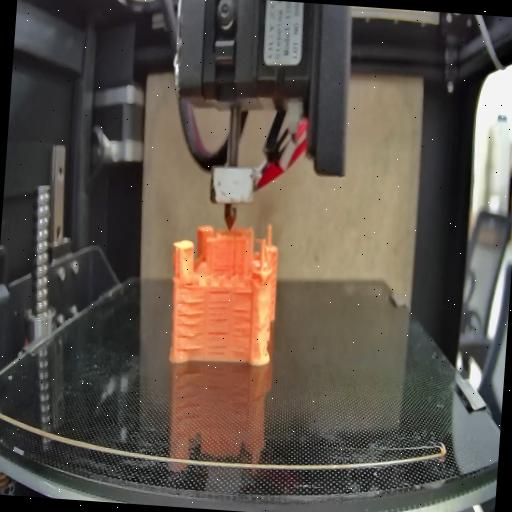cracks: (174, 298, 204, 349), (207, 302, 230, 356), (232, 304, 254, 354), (232, 284, 254, 300), (209, 286, 231, 300), (182, 275, 200, 290)
